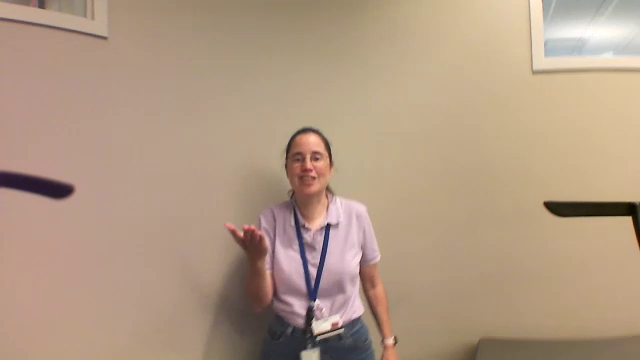land: (219, 214, 276, 258)
